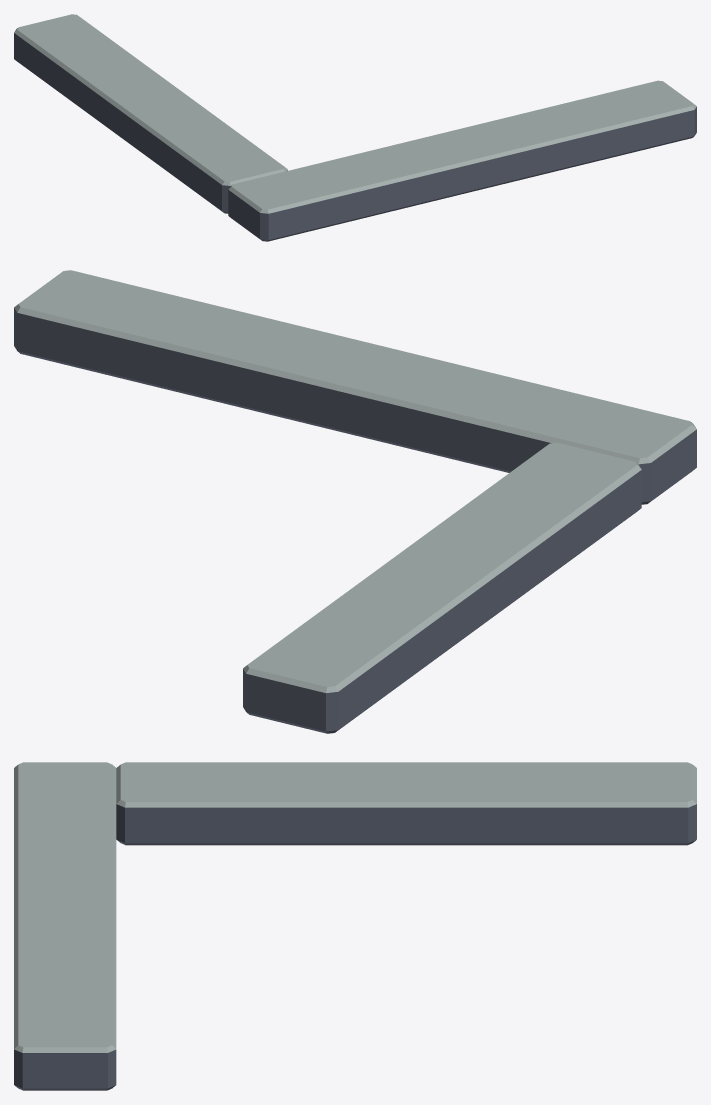
Rendered from floor-border-corner.glb.
The picture shows the model from 3 angles, top to bottom: view 1: azimuth 30°, elevation 25°; view 2: azimuth 150°, elevation 25°; view 3: azimuth 270°, elevation 25°; orthographic projection. The views are drawn at different scales.
Visible parts, largest first — view 1: floor-border-corner__body; view 2: floor-border-corner__body; view 3: floor-border-corner__body.
Part boxes in pixels (bbox=[...]): floor-border-corner__body: bbox=[14, 14, 696, 241]; floor-border-corner__body: bbox=[14, 270, 696, 733]; floor-border-corner__body: bbox=[14, 762, 696, 1090].
Bounding box in the file's own units: 2 × 0.14 × 2.
